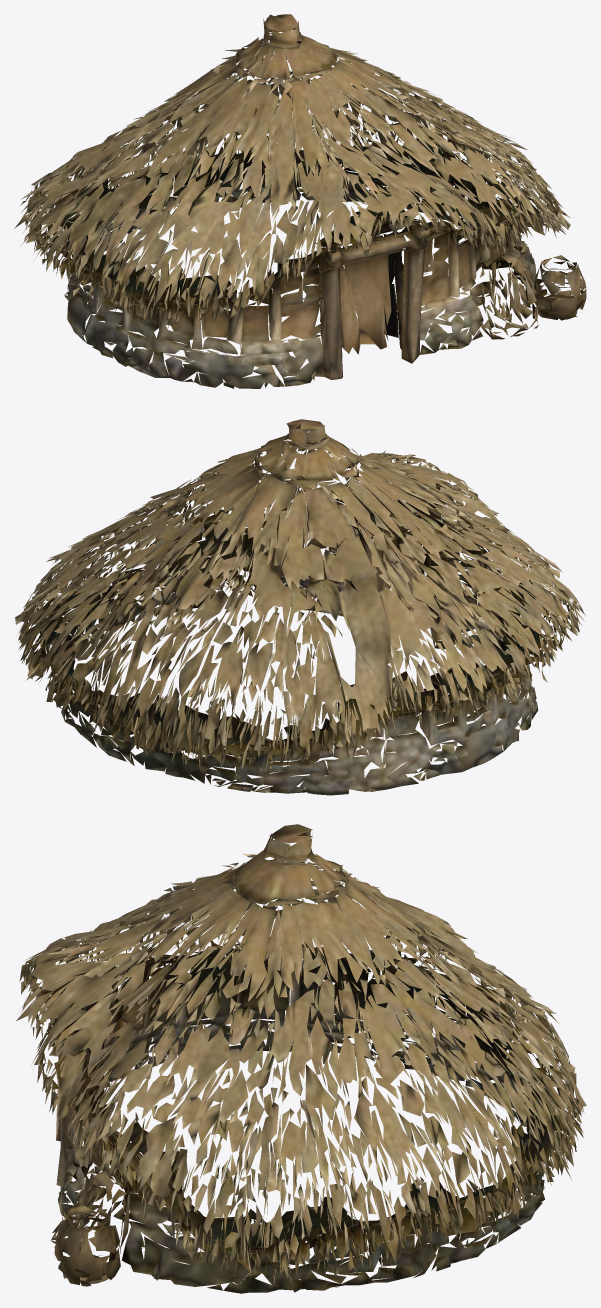
File: fisher_far.glb
The picture shows the model from 3 angles, top to bottom: view 1: azimuth 30°, elevation 25°; view 2: azimuth 150°, elevation 25°; view 3: azimuth 270°, elevation 25°; orthographic projection. The views are drawn at different scales.
Visible parts, largest first — view 1: model; view 2: model; view 3: model.
Boxes of the visible parts, x1,y1,x2,y2 form: model: (14, 14, 586, 388); model: (15, 419, 585, 795); model: (16, 824, 586, 1293).
Size of the model in its own units: 0.996 by 0.5369 by 0.8327.
Materials: 1 (1 with a texture image).
